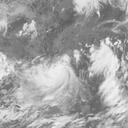cyclone: (26, 62, 79, 105)
